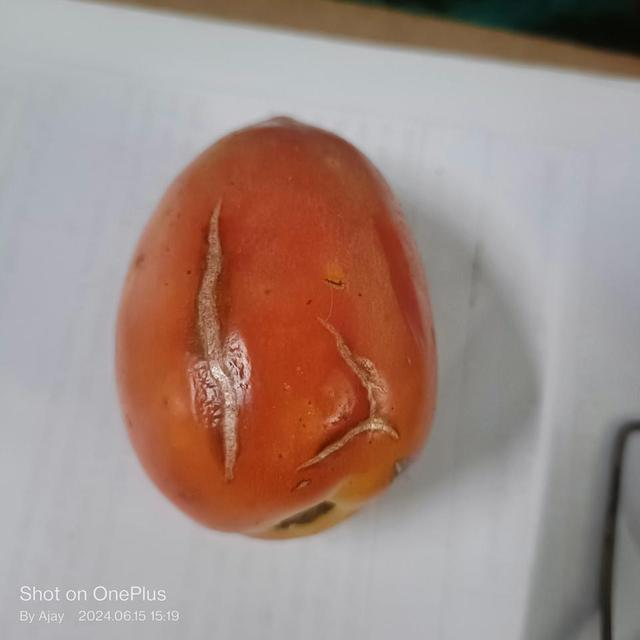Cracking Fruit: (118, 209, 224, 273)
